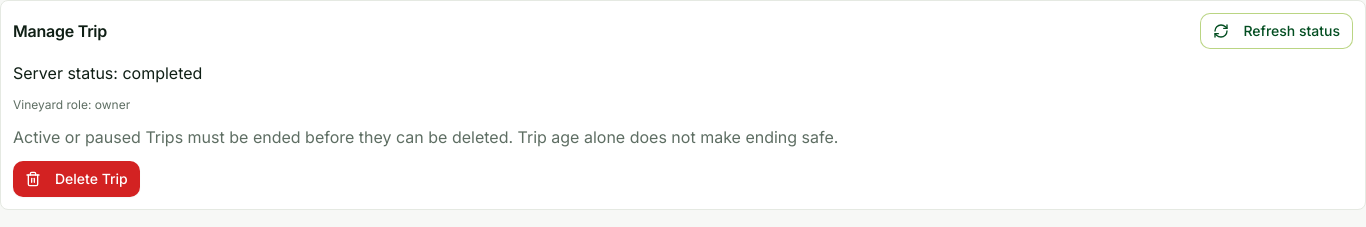
Manage Trip safety UI › hides cached status and deletion after failed refetch
Expected: the text "Server status: completed" is shown, x1=13 y1=63 x2=202 y2=83
Click the button "Refresh status" at (1277, 31), box x1=1200 y1=13 x2=1353 y2=49
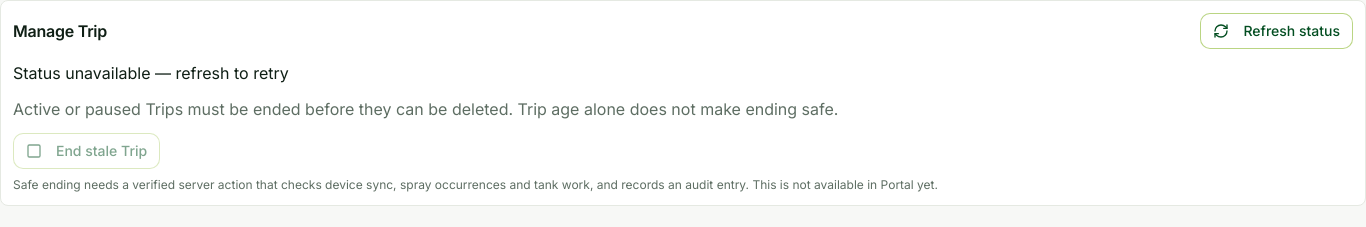
Result: the text "Status unavailable — refresh to retry" is shown at x1=13 y1=63 x2=289 y2=83
Result: the text "Server status: completed" is gone
Result: the button "Delete Trip" is gone
